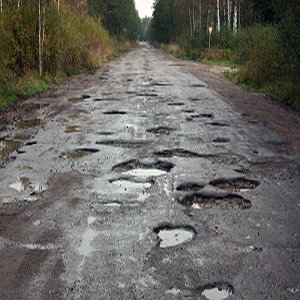pothole: (151, 219, 200, 250), (177, 194, 251, 213), (112, 159, 174, 177), (196, 279, 239, 300), (208, 175, 260, 192), (98, 138, 148, 152), (54, 147, 98, 160)
